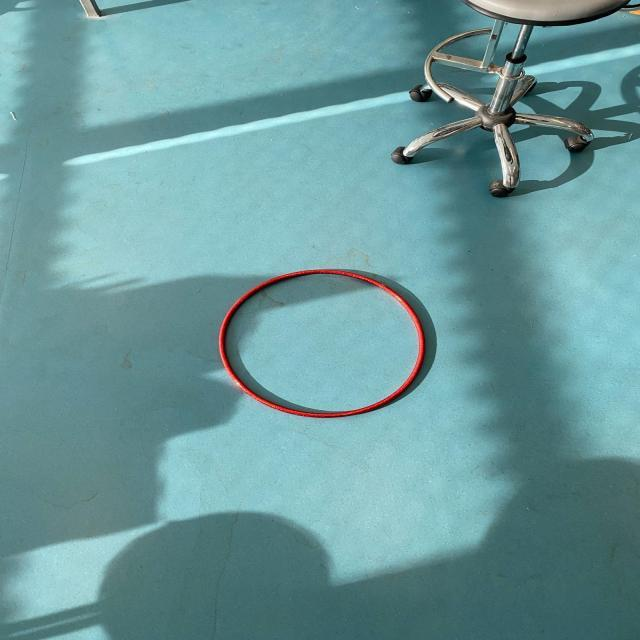Circle: (214, 263, 436, 421)
